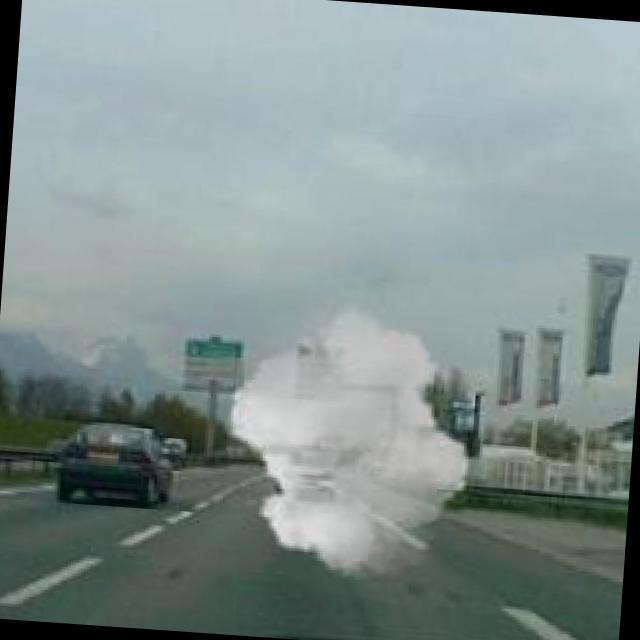Smoke: (208, 294, 490, 586)
